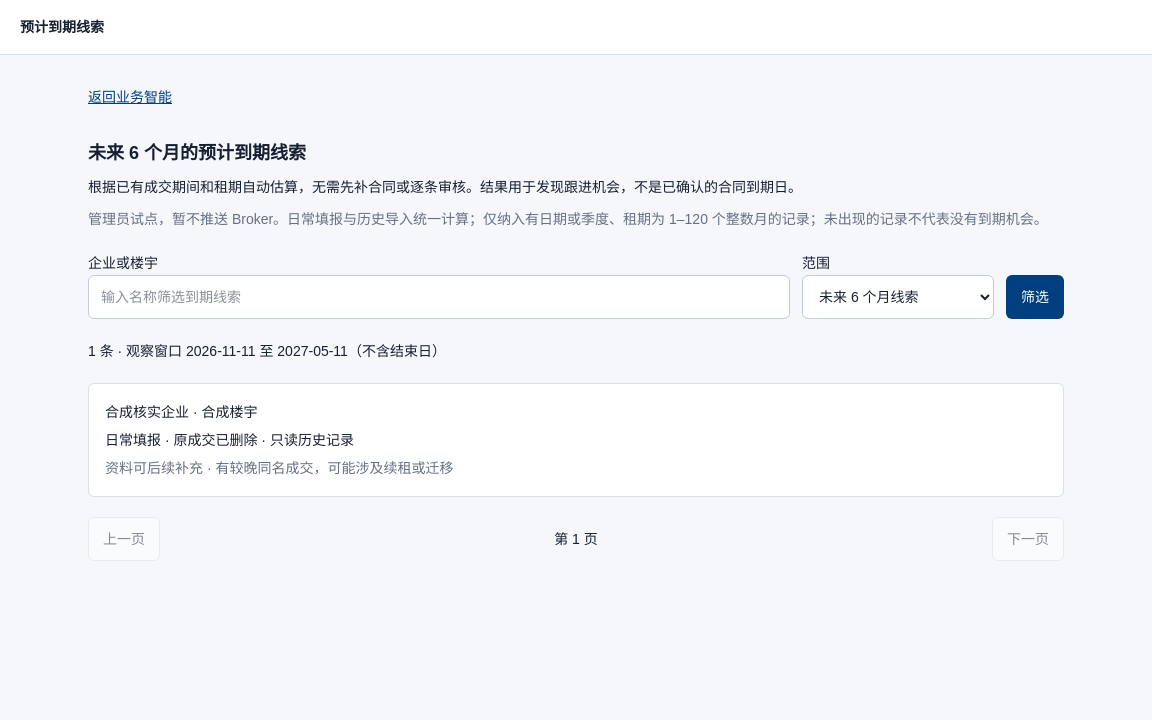
Test: F6 administrator review workspace › preserves deleted daily source notes as read-only without inventing an expiry
Click the button "合成核实企业": (147, 412) [89,384,1063,496]
(page scrolled)
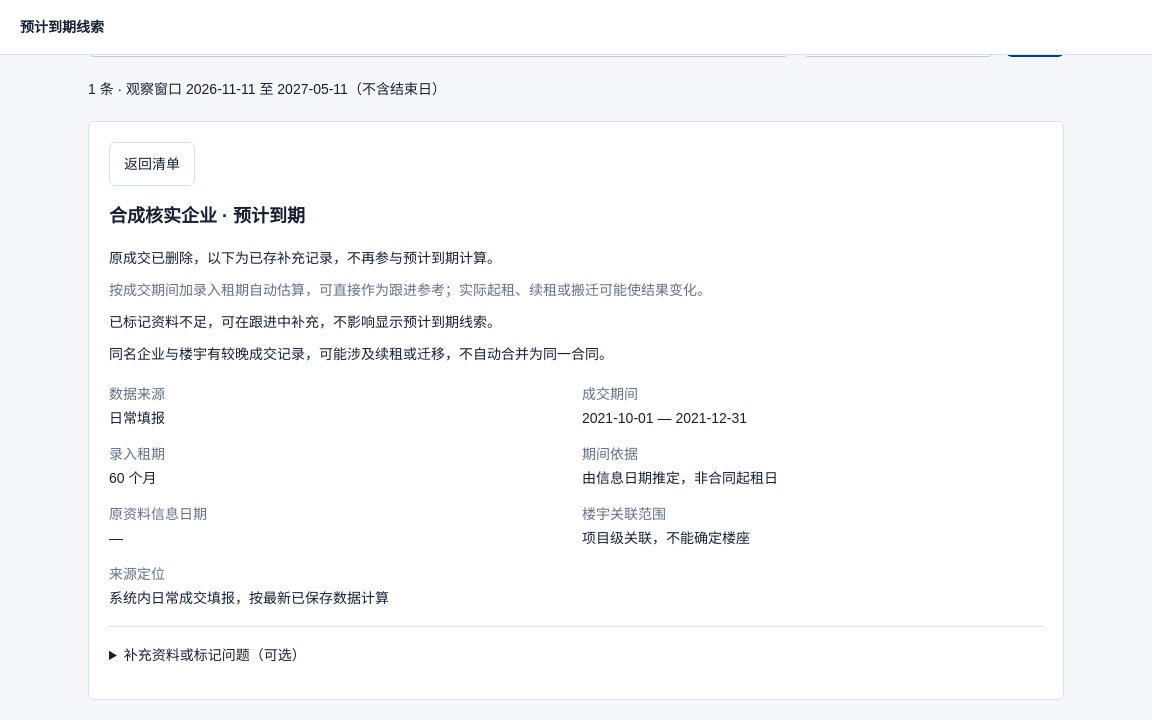
Click the heading "补充资料或标记问题（可选）": (215, 655) [124,647,306,663]
(page scrolled)
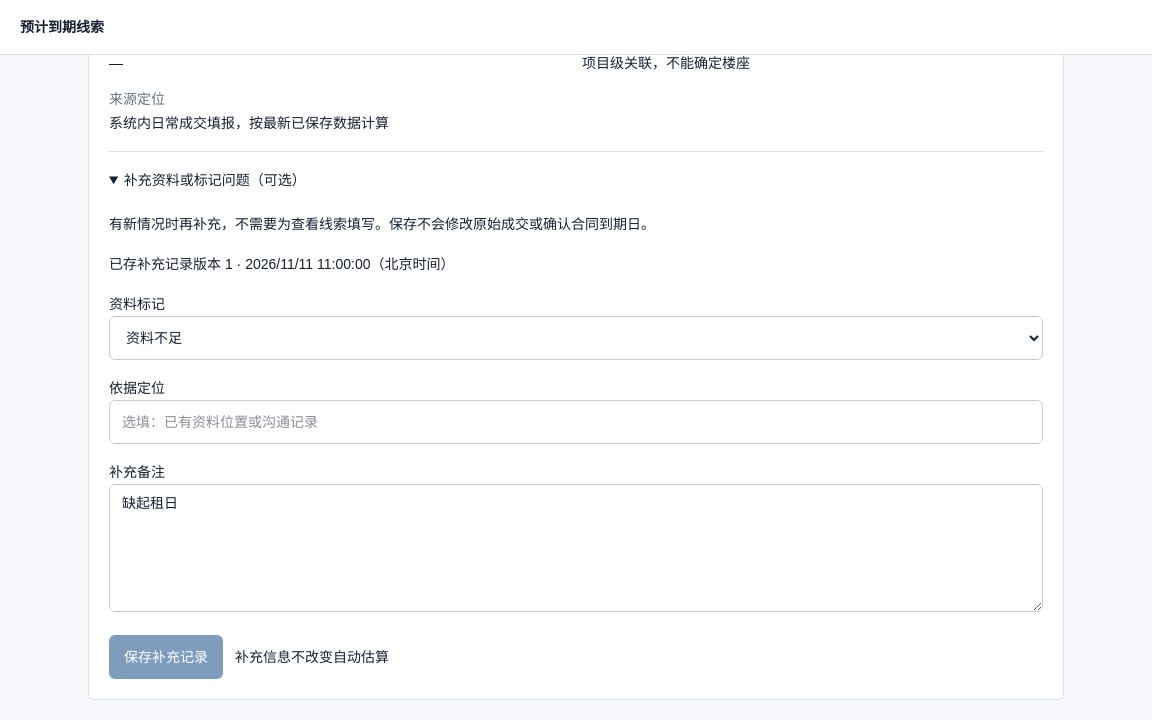
Expected: the button "保存补充记录" is disabled, [109,635,223,679]
Expected: the text box labelled "补充备注" is disabled, [109,484,1043,612]
Expected: the text box labelled "补充备注" holds "缺起租日", [109,484,1043,612]
